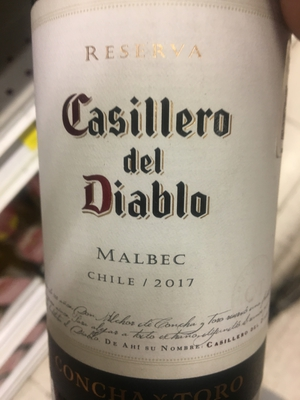casillero del diablo malbec: (25, 6, 294, 400)
